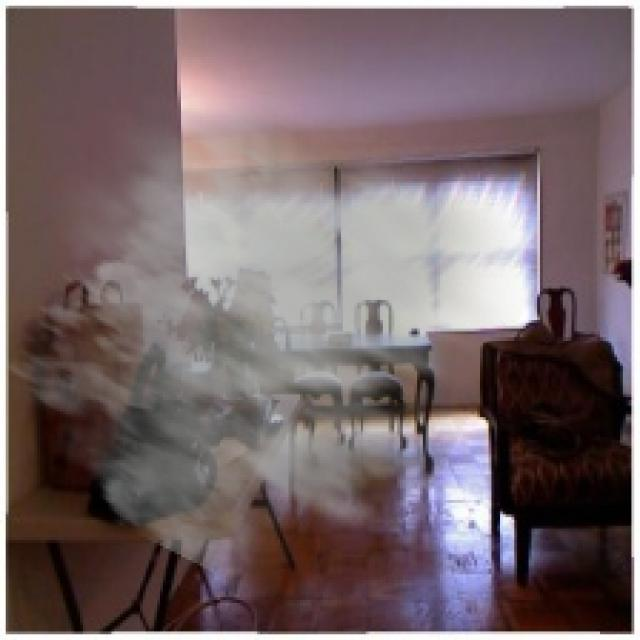smoke: (3, 86, 554, 600)
